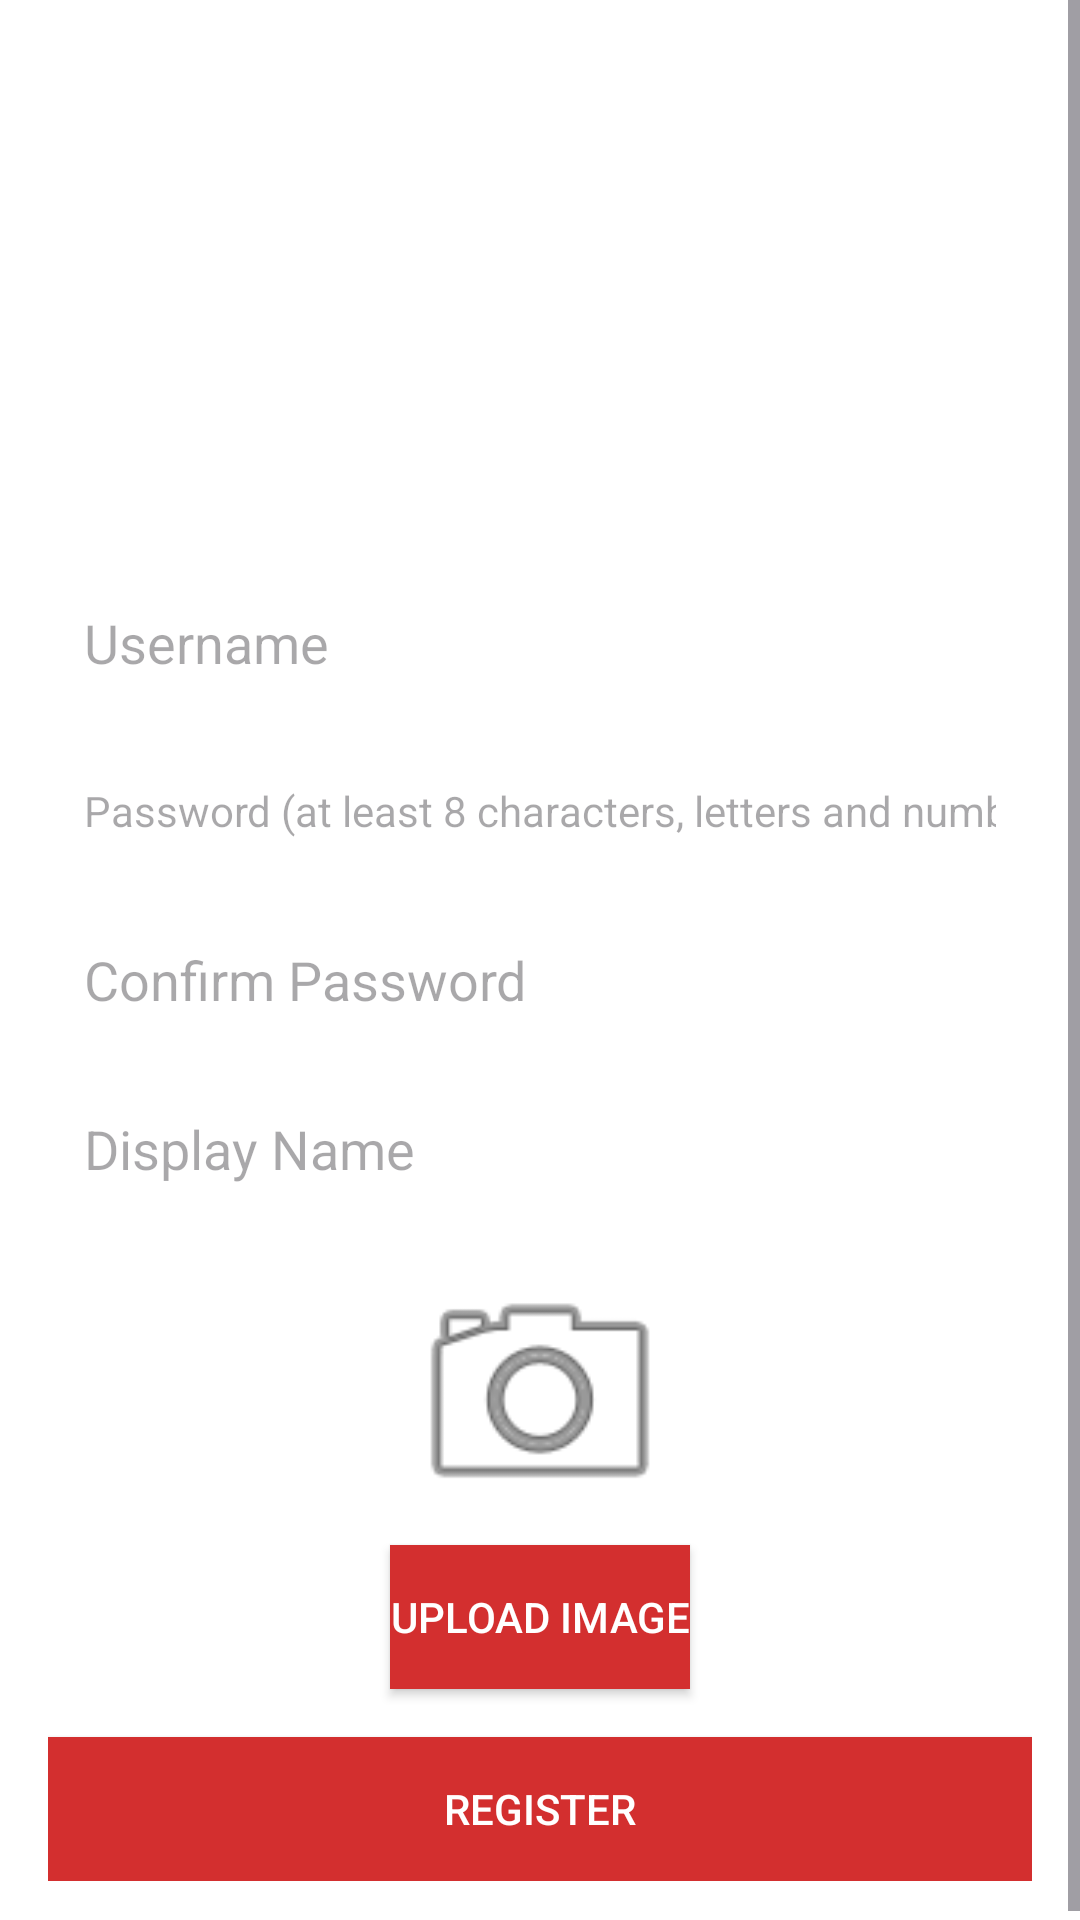

Locate icon controls on the screen. Image size 1080 × 1920, boxes as (x1, y1, x2, y2).
Profile Image: (431, 1304, 649, 1478)
